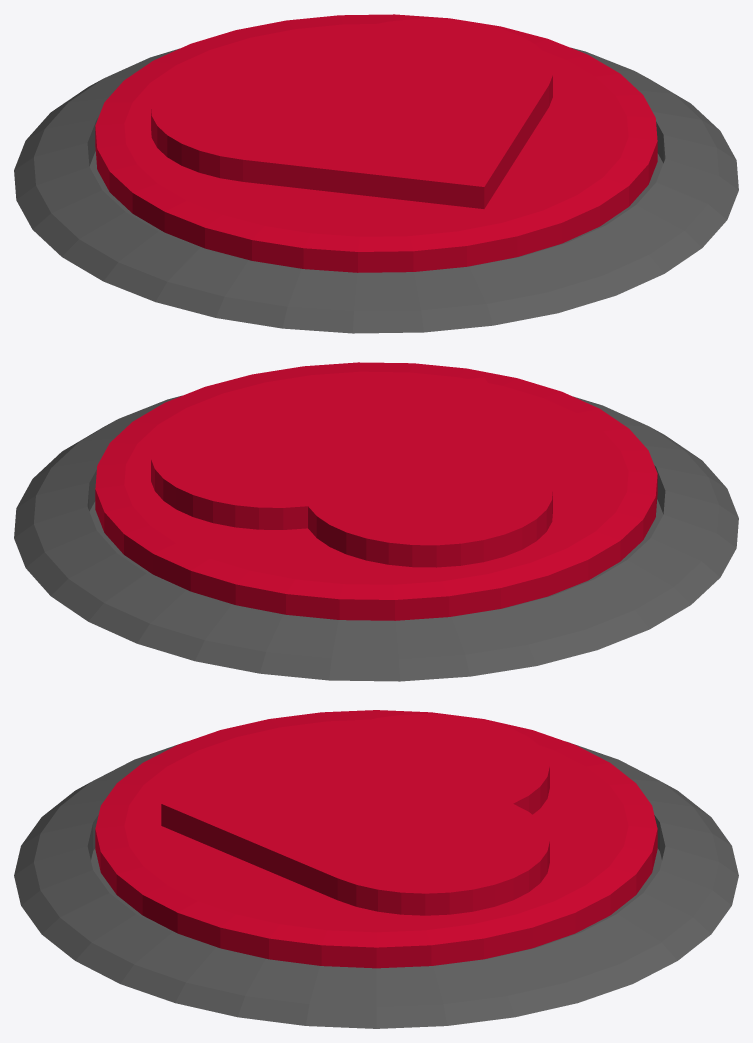
3 views of the same model, one above another, from view 1: azimuth 30°, elevation 25°; view 2: azimuth 150°, elevation 25°; view 3: azimuth 270°, elevation 25° (orthographic).
Visible parts, largest first — view 1: Plane.015, Circle.015; view 2: Plane.015, Circle.015; view 3: Plane.015, Circle.015.
Boxes of the visible parts, x1,y1,x2,y2 form: Plane.015: (95, 14, 657, 272); Circle.015: (14, 47, 738, 333); Plane.015: (95, 362, 657, 620); Circle.015: (14, 395, 738, 681); Plane.015: (95, 710, 657, 968); Circle.015: (14, 742, 738, 1028).
Bounding box in the file's own units: 111 × 12.14 × 111.
